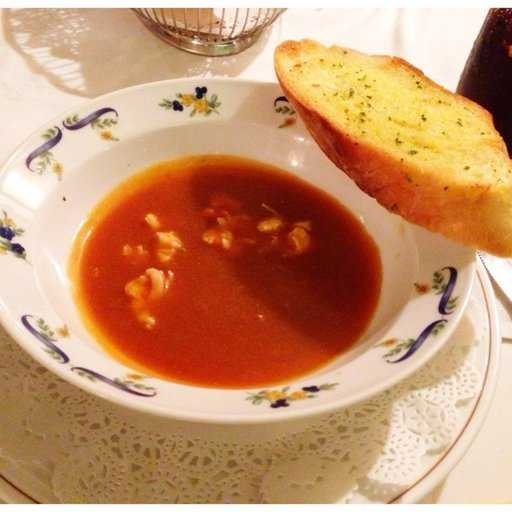soup: (67, 151, 390, 384)
